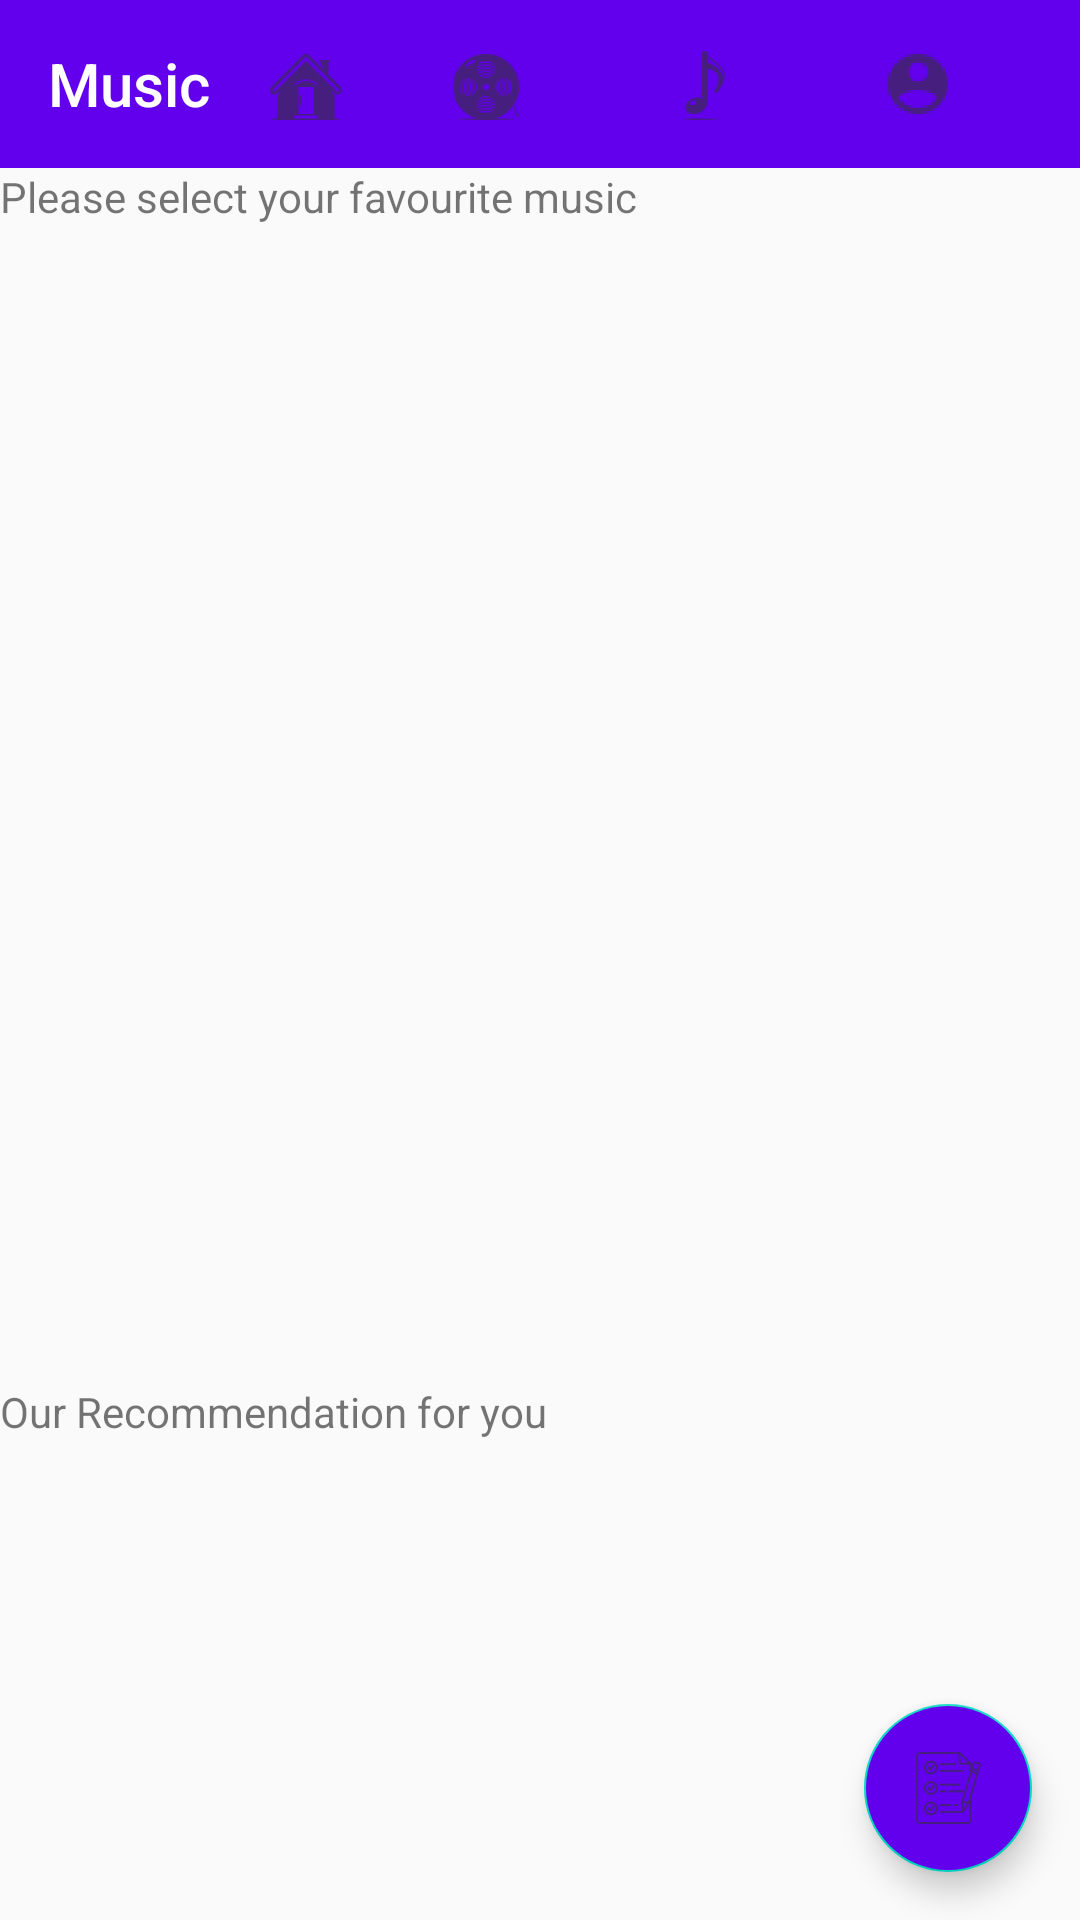

Icon click points for this 1080*1920 phone screenshot, format [x,y]:
feedback: [948,1788]
Home: [306,87]
Movies: [486,87]
Profile: [918,84]
